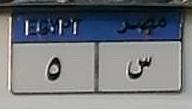5: (43, 54, 63, 84)
seen: (123, 52, 153, 84)
